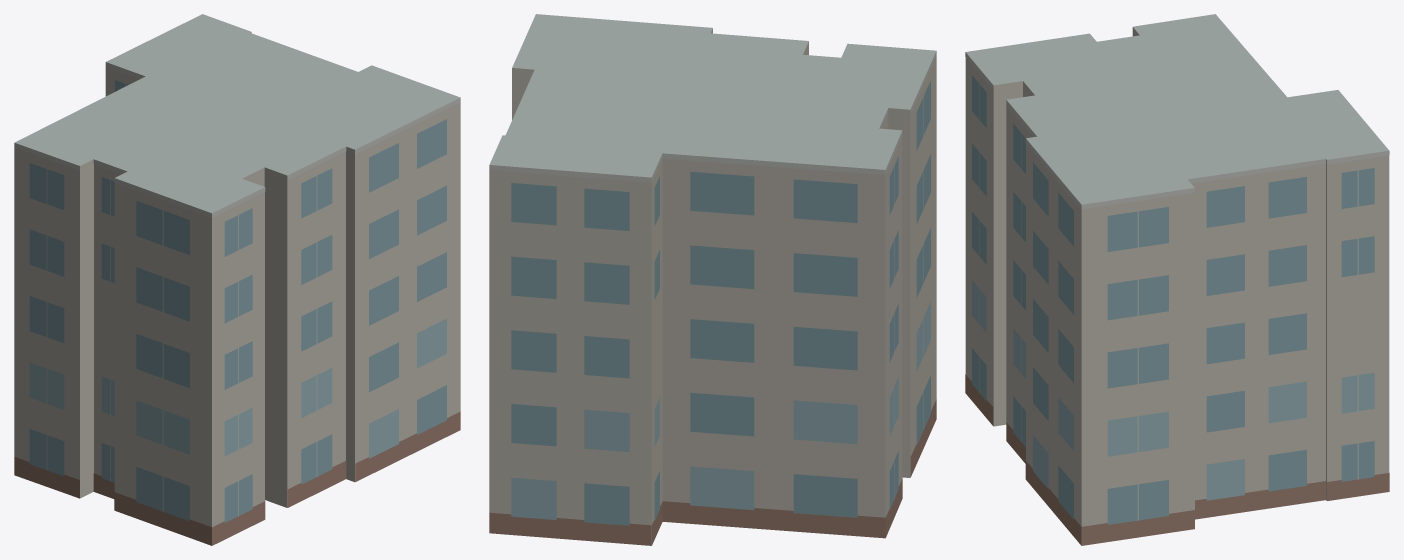
File: survey-upis-32976948.glb
3 views of the same model, side by side, from view 1: azimuth 30°, elevation 25°; view 2: azimuth 150°, elevation 25°; view 3: azimuth 270°, elevation 25° (orthographic). The views are drawn at different scales.
Parts seen in each view (by area): view 1: survey-upis-32976948.tmp; view 2: survey-upis-32976948.tmp; view 3: survey-upis-32976948.tmp.
Part boxes in pixels (<box>): survey-upis-32976948.tmp: <box>14,14,460,545</box>; survey-upis-32976948.tmp: <box>489,14,936,545</box>; survey-upis-32976948.tmp: <box>965,14,1389,545</box>.
Size of the model in its own units: 20.78 by 17.33 by 19.52.
